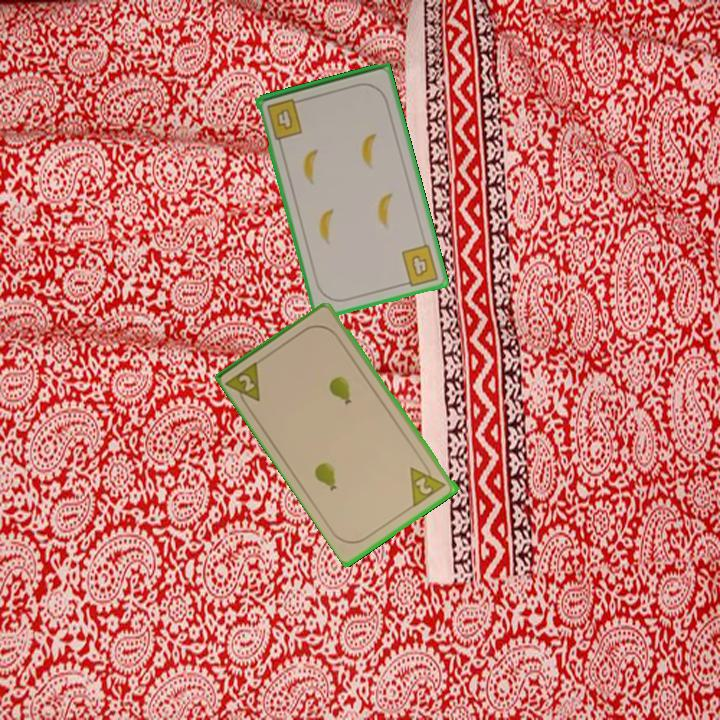2p: (406, 457, 450, 509), (235, 371, 258, 395)
4b: (398, 241, 442, 289), (263, 95, 306, 142)
